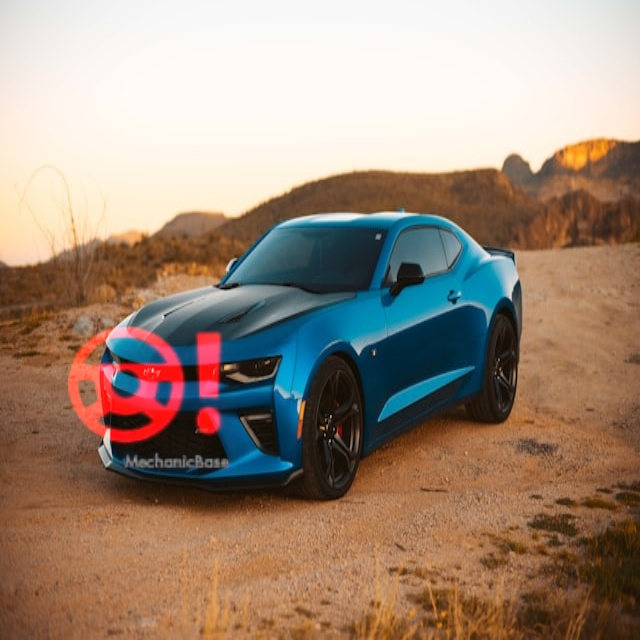symbol: (53, 294, 236, 477)
